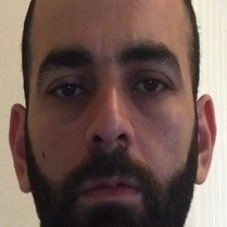awake: (34, 33, 188, 227)
